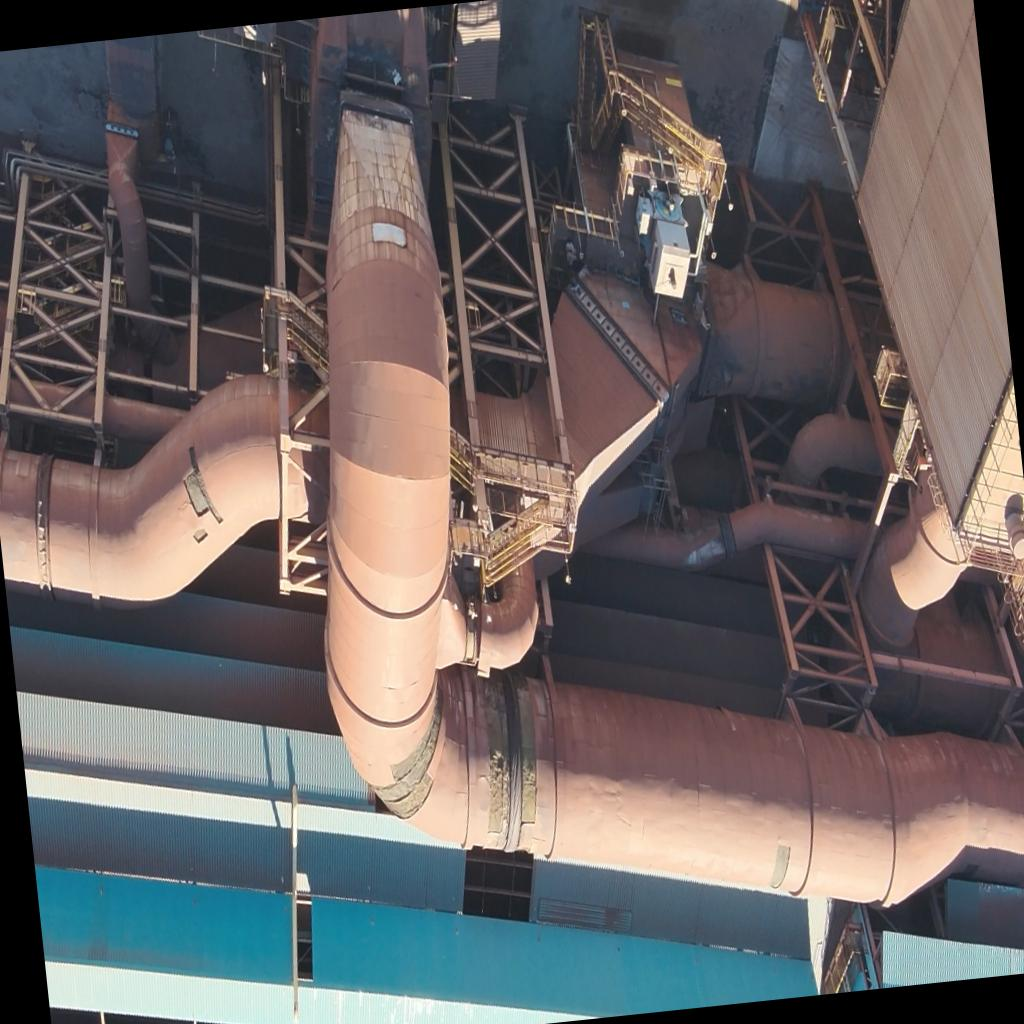Failures: (366, 692, 453, 826), (471, 678, 511, 832), (510, 676, 543, 826), (179, 444, 222, 529), (768, 842, 796, 893), (190, 526, 207, 544)
